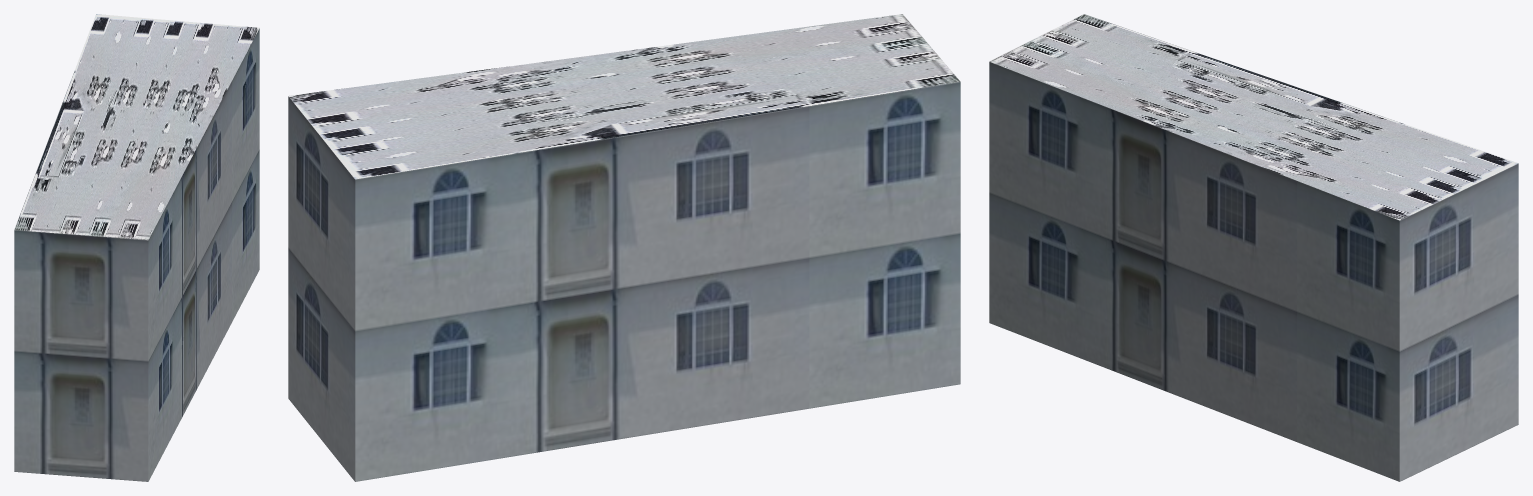
Rendered from ResTex__2341.fbx.
The picture shows the model from 3 angles, left to right: view 1: azimuth 30°, elevation 25°; view 2: azimuth 150°, elevation 25°; view 3: azimuth 270°, elevation 25°; orthographic projection. The views are drawn at different scales.
Parts seen in each view (by area): view 1: CityEngineMaterial_17_m, CityEngineMaterial_m; view 2: CityEngineMaterial_17_m, CityEngineMaterial_m; view 3: CityEngineMaterial_17_m, CityEngineMaterial_m.
Boxes of the visible parts, bbox=[...] form: CityEngineMaterial_17_m: bbox=[14, 28, 259, 481]; CityEngineMaterial_m: bbox=[14, 14, 259, 240]; CityEngineMaterial_17_m: bbox=[288, 82, 960, 481]; CityEngineMaterial_m: bbox=[288, 14, 960, 179]; CityEngineMaterial_17_m: bbox=[989, 62, 1518, 481]; CityEngineMaterial_m: bbox=[989, 14, 1518, 220].
Size of the model in its own units: 10.17 by 6 by 11.02.
Materials: 2 (2 with a texture image).
